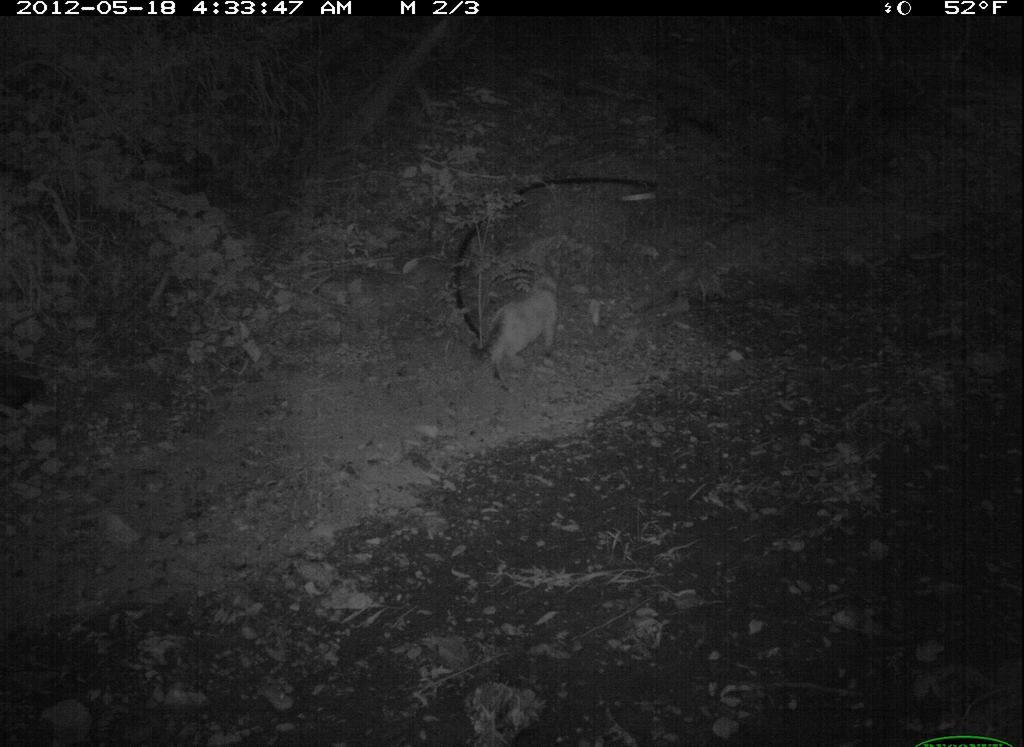cat: (454, 257, 568, 388)
